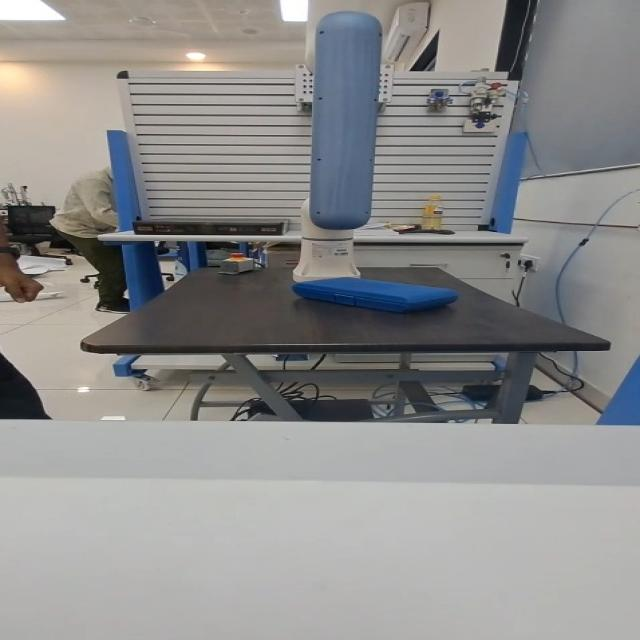top-surface: (321, 279, 428, 294)
